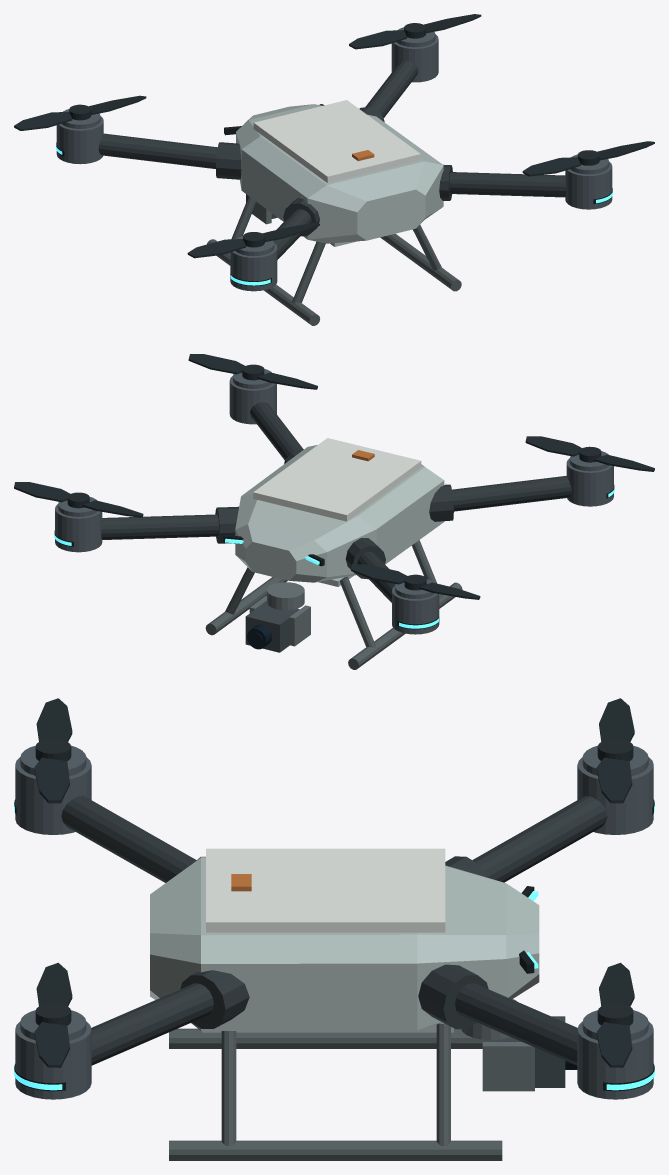
3 views of the same model, one above another, from view 1: azimuth 30°, elevation 25°; view 2: azimuth 150°, elevation 25°; view 3: azimuth 270°, elevation 25° (orthographic). The views are drawn at different scales.
Parts seen in each view (by area): view 1: Body_Main, Body_TopCover, Arm_Tube_FL, Arm_Tube_RR, Motor_Housing_RR, Motor_Housing_FL, Motor_Housing_RL, Motor_Housing_FR, Arm_Tube_FR, Gear_Skid_R, Arm_Shoulder_FL, Gear_Skid_L (+12 smaller); view 2: Body_Main, Body_TopCover, Arm_Tube_RL, Arm_Tube_FR, Motor_Housing_FR, Motor_Housing_RL, Motor_Housing_FL, Camera_Main, Motor_Housing_RR, Arm_Tube_RR, Gear_Skid_R, Gimbal_Yaw_Collar (+16 smaller); view 3: Body_Main, Body_TopCover, Gear_Skid_R, Gear_Skid_L, Arm_Tube_FL, Arm_Tube_RL, Arm_Tube_FR, Arm_Tube_RR, Motor_Housing_FR, Motor_Housing_RR, Motor_Housing_RL, Motor_Housing_FL (+23 smaller).
Part boxes in pixels (box(x1,y1,x2,y2)): Body_Main: box(236, 104, 443, 243); Body_TopCover: box(253, 100, 420, 182); Arm_Tube_FL: box(98, 133, 217, 168); Arm_Tube_RR: box(449, 172, 566, 197); Motor_Housing_RR: box(565, 162, 612, 209); Motor_Housing_FL: box(56, 116, 103, 164); Motor_Housing_RL: box(230, 243, 277, 291); Motor_Housing_FR: box(391, 34, 438, 82); Arm_Tube_FR: box(365, 60, 418, 117); Gear_Skid_R: box(380, 233, 461, 291); Arm_Shoulder_FL: box(216, 142, 241, 179); Gear_Skid_L: box(207, 239, 319, 325); Body_Main: box(235, 445, 444, 582); Body_TopCover: box(253, 438, 421, 521); Arm_Tube_RL: box(452, 476, 571, 511); Arm_Tube_FR: box(101, 514, 218, 539); Motor_Housing_FR: box(55, 504, 102, 552); Motor_Housing_RL: box(566, 458, 613, 506); Motor_Housing_FL: box(392, 586, 439, 634); Camera_Main: box(245, 601, 299, 652); Motor_Housing_RR: box(229, 376, 276, 424); Arm_Tube_RR: box(250, 402, 303, 460); Gear_Skid_R: box(205, 577, 287, 635); Gimbal_Yaw_Collar: box(267, 582, 304, 610); Body_Main: box(150, 856, 539, 1030); Body_TopCover: box(206, 848, 445, 932); Gear_Skid_R: box(169, 1140, 502, 1160); Gear_Skid_L: box(169, 1028, 482, 1048); Arm_Tube_FL: box(472, 795, 607, 882); Arm_Tube_RL: box(61, 795, 196, 882); Arm_Tube_FR: box(455, 983, 577, 1065); Arm_Tube_RR: box(91, 983, 213, 1065); Motor_Housing_FR: box(577, 1021, 653, 1099); Motor_Housing_RR: box(15, 1021, 91, 1099); Motor_Housing_RL: box(15, 757, 91, 834); Motor_Housing_FL: box(577, 757, 653, 834).
Size of the model in its own units: 0.682 by 0.1955 by 0.5039.
